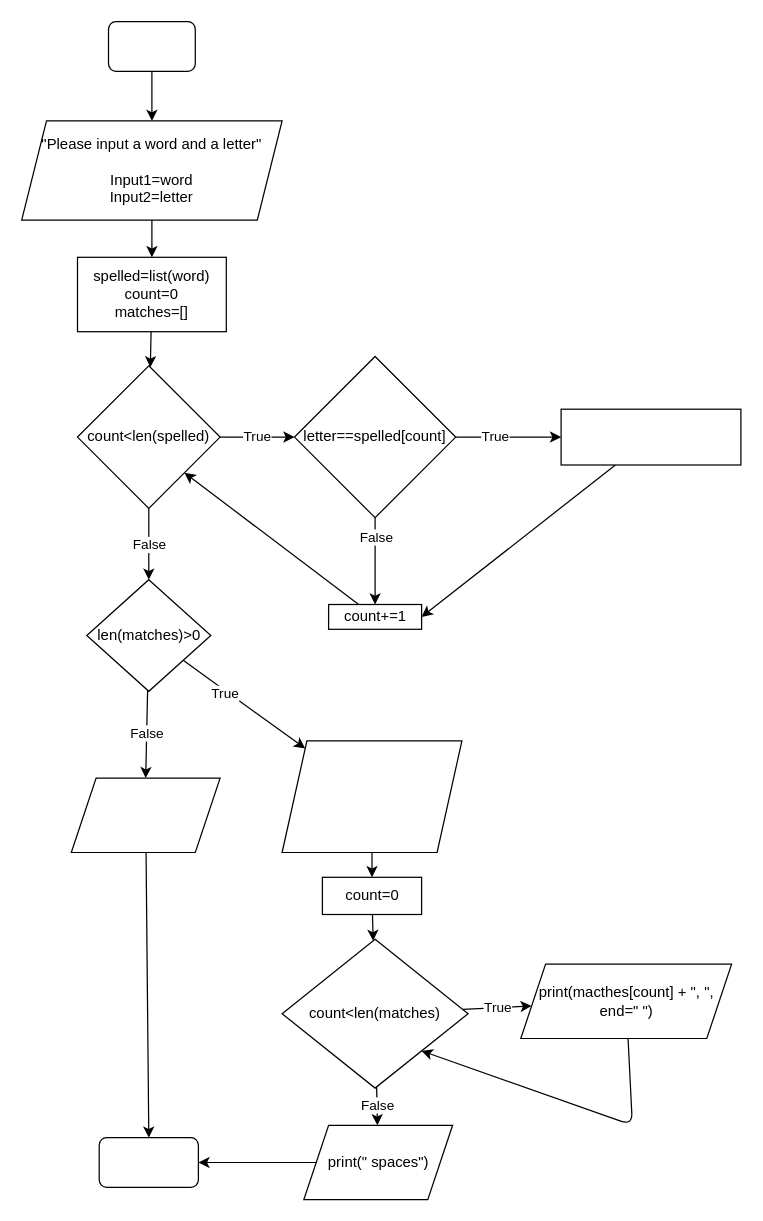
Image size: 763x1221. Some labels were removed from this diagram. The shapes that lost their labels are listed below. From the top down, each one's centre as x and y in pixels, then its label:
(x=151, y=45): Start
(x=650, y=436): matches.append=count
(x=145, y=814): "There are no Matches"
(x=371, y=796): "There are "+str(len(matches))+" matches in the "
(x=148, y=1161): End
